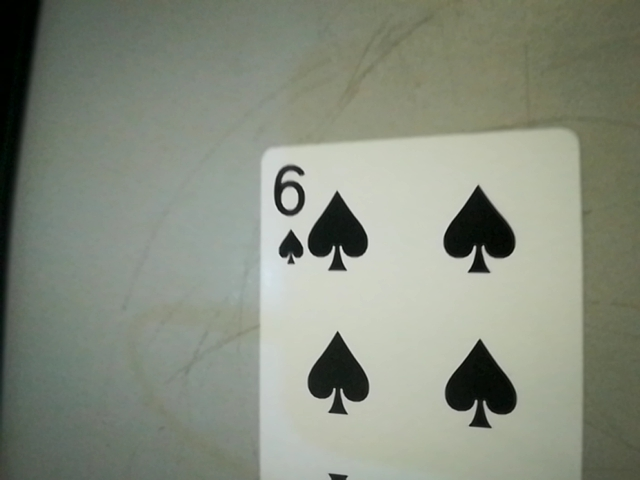ht 6: (260, 157, 314, 271)
